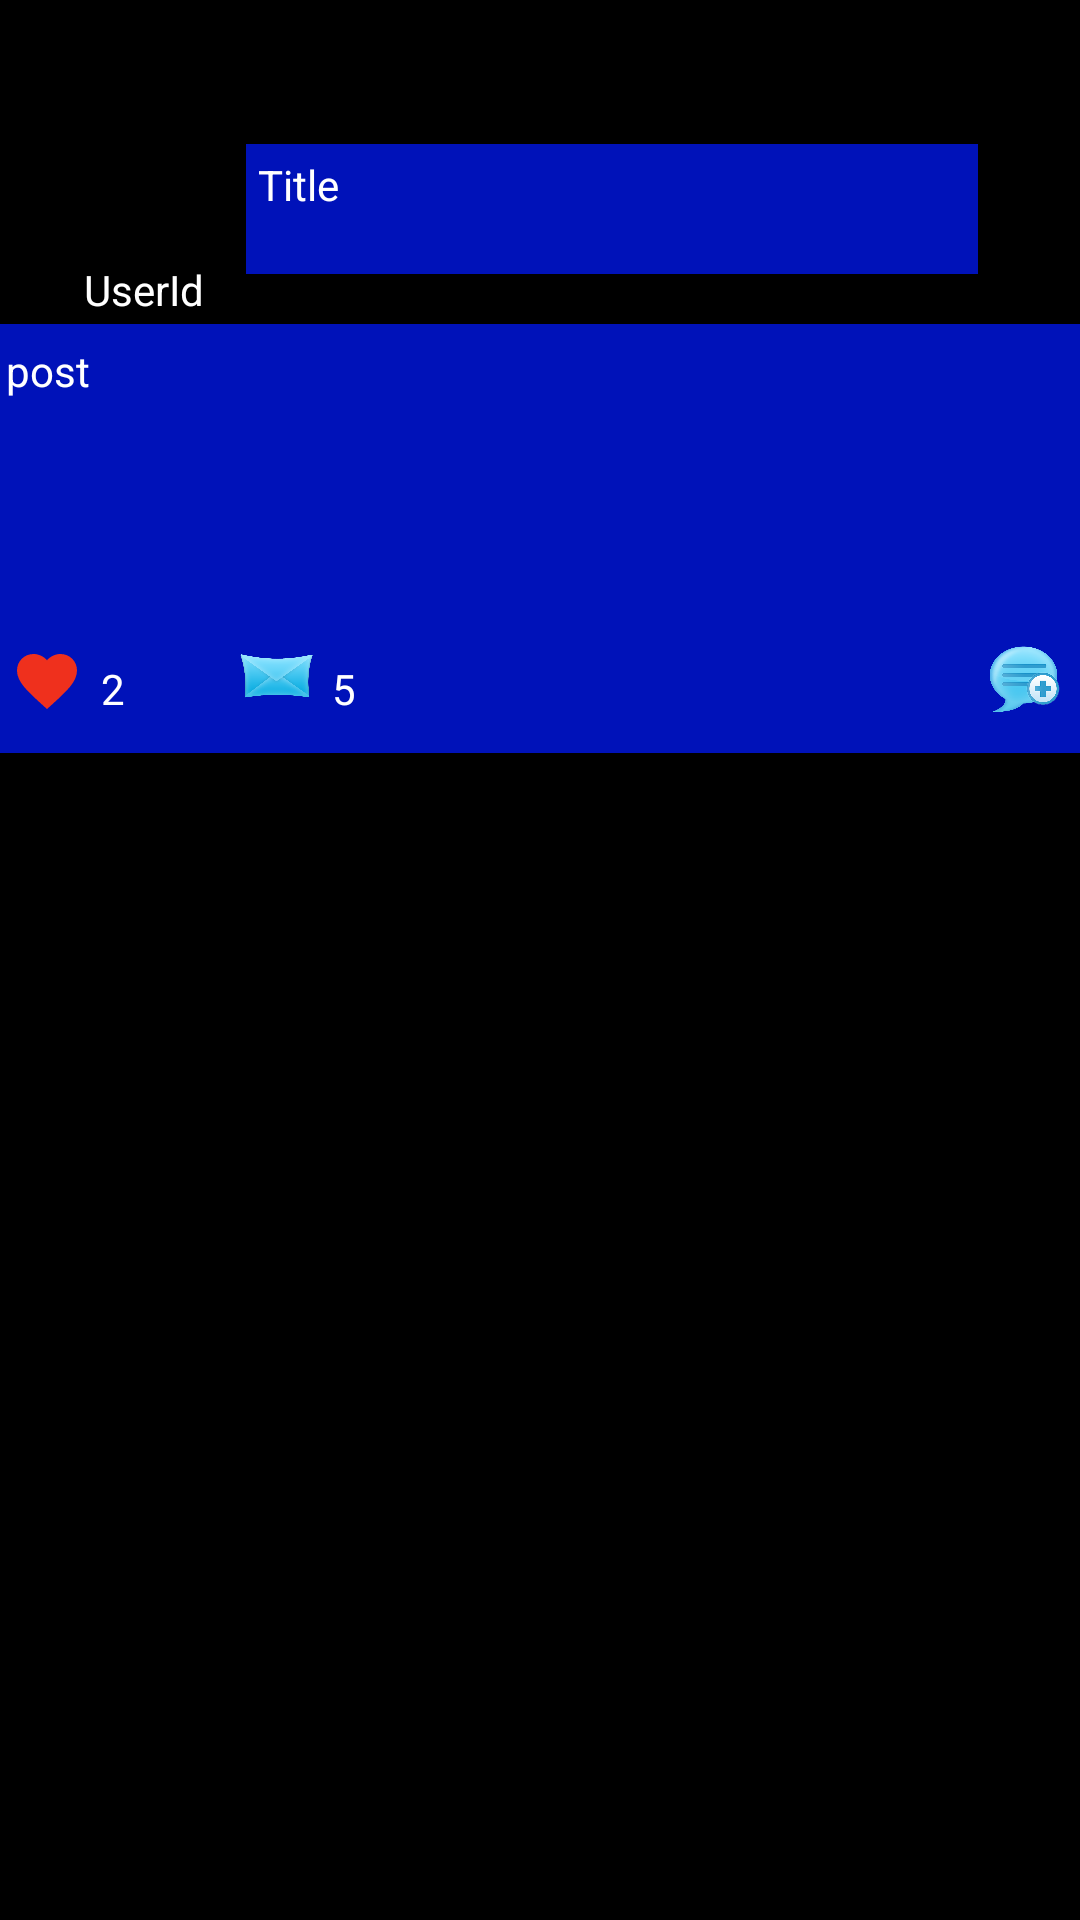

Icons on this 1080×1920 Android screen, each with the point to tap as point (x, y):
add comments: point (1025, 679)
favorite: point (47, 681)
message: point (276, 675)
